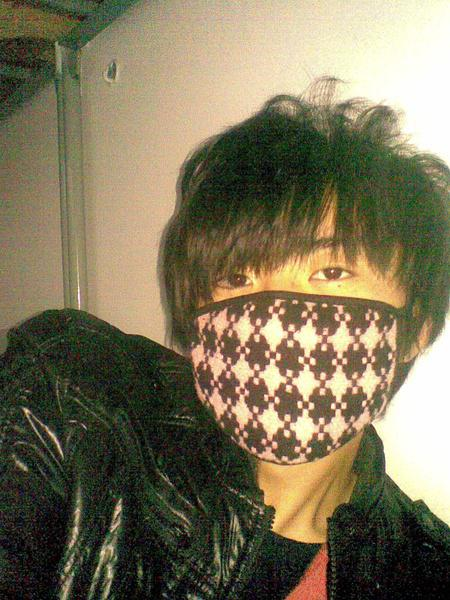OK: (177, 223, 412, 458)
